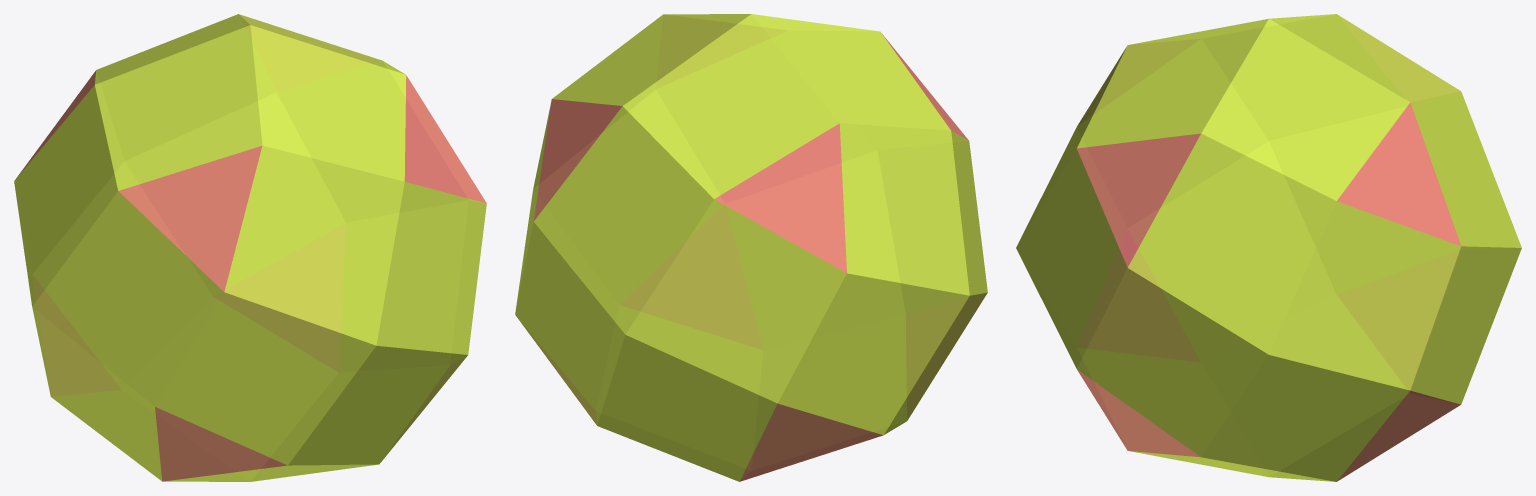
File: PropellorOctahedron.obj
3 views of the same model, side by side, from view 1: azimuth 30°, elevation 25°; view 2: azimuth 150°, elevation 25°; view 3: azimuth 270°, elevation 25° (orthographic).
Bounding box in the file's own units: 2.14 × 2.14 × 2.14.
